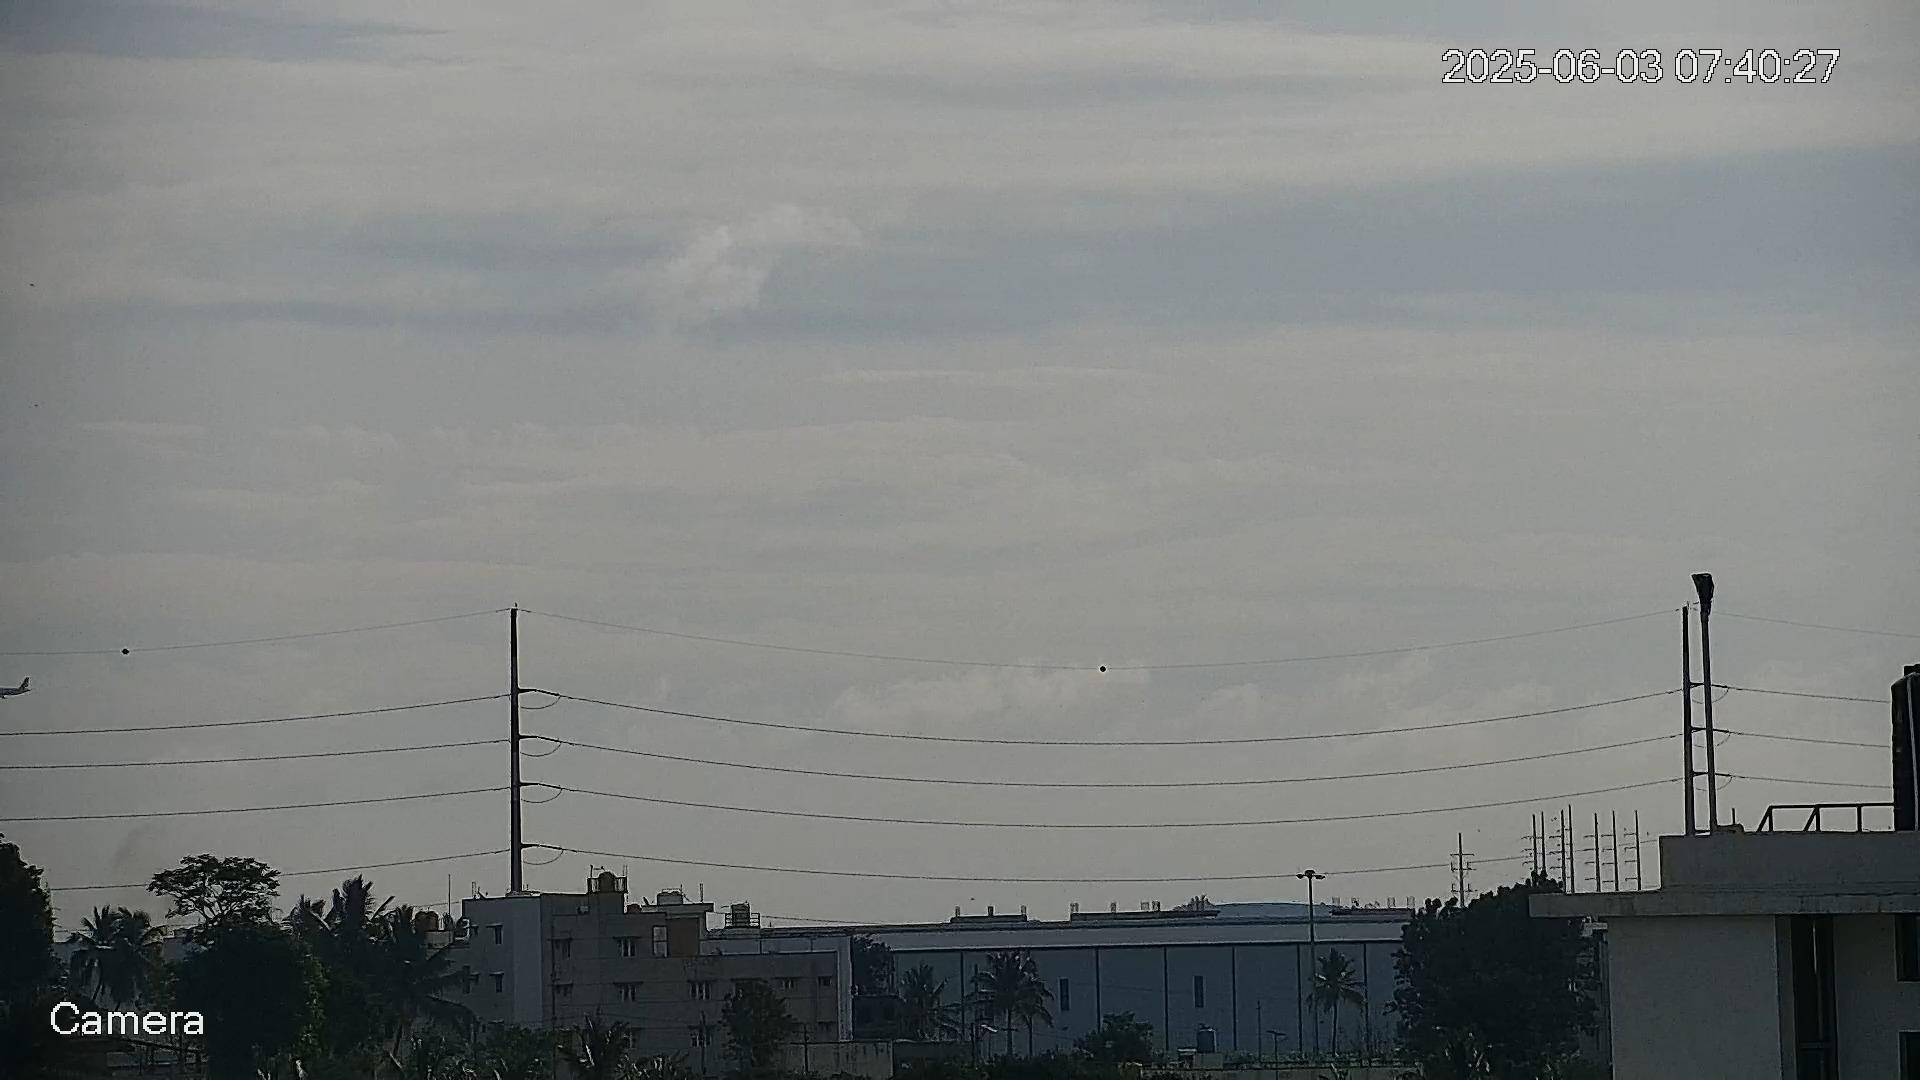Aircraft: (0, 676, 33, 699)
